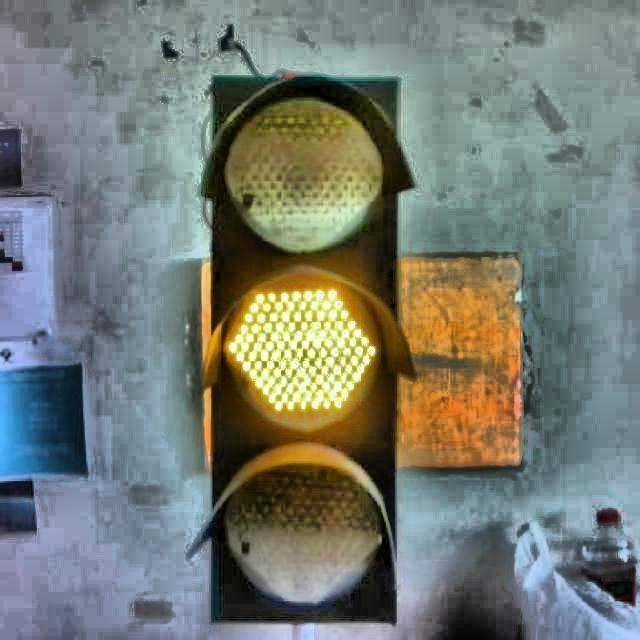yellow: (210, 75, 398, 623)
